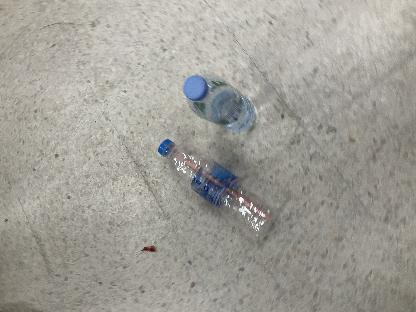Plastic Bottle: (158, 138, 278, 244), (184, 74, 256, 132)
